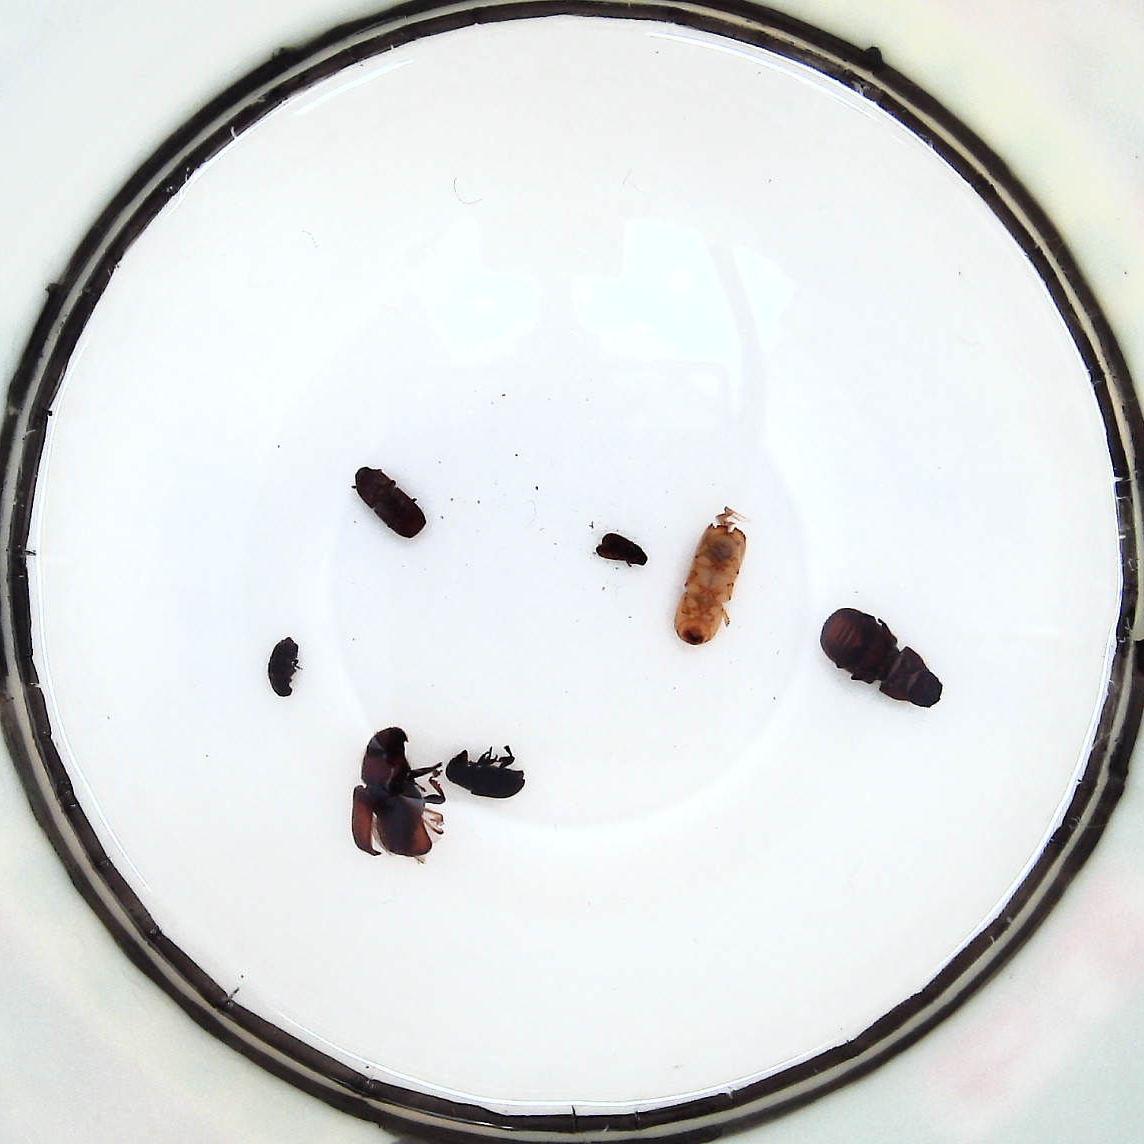Boerner: (673, 525, 745, 644)
Leconte: (820, 608, 944, 709), (352, 726, 445, 856)
acuminatus: (267, 637, 300, 697)
armandi: (445, 748, 524, 798)
coleoptera: (596, 531, 648, 568)
linnaeus: (352, 466, 425, 537)
